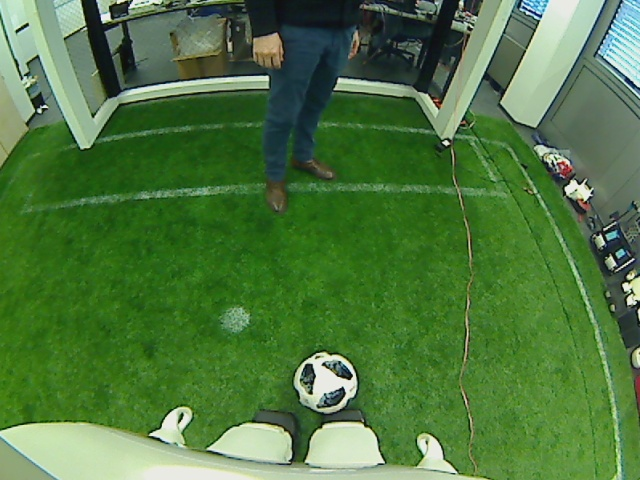ball: (291, 350, 360, 411)
